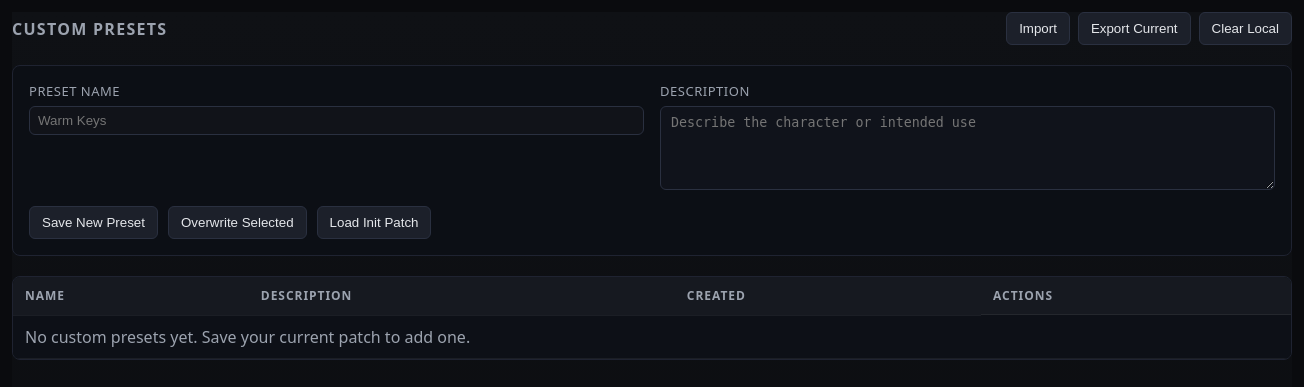
it: PatchPanel › saves a new preset and lists it in the table
Type "My Custom" into the field labelled "Preset Name" at (336, 120), box x1=29 y1=106 x2=644 y2=135
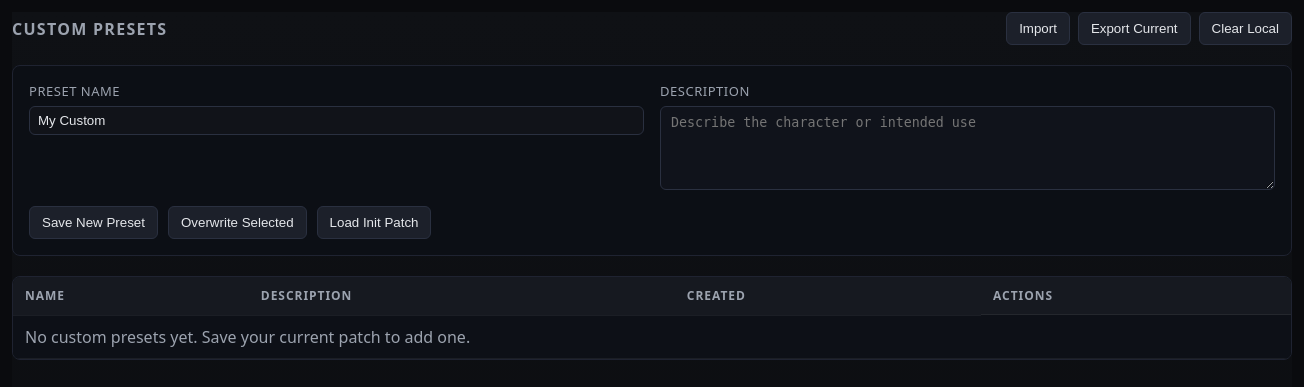
Type "A mellow sound" into the text box labelled "Description" at (968, 148), box x1=660 y1=106 x2=1275 y2=190
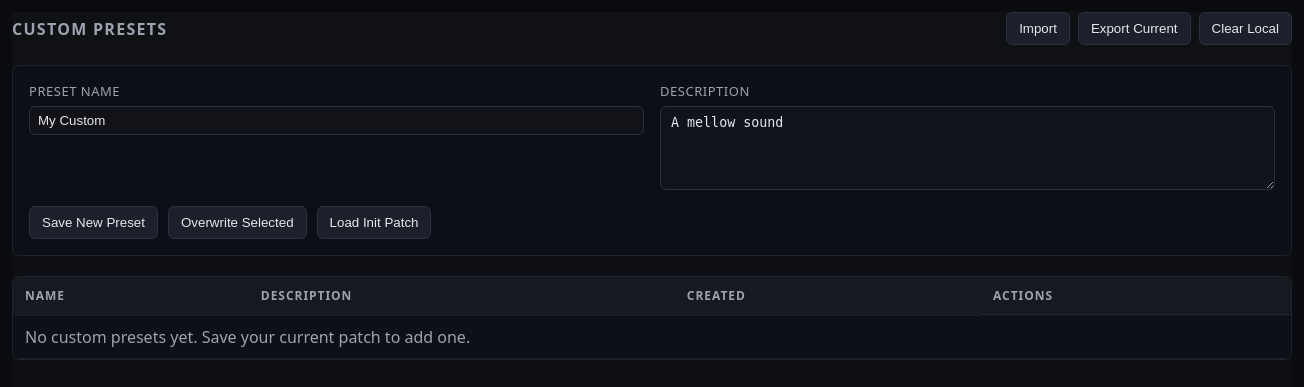
Click the button "Save New Preset" at (94, 222), box x1=29 y1=206 x2=158 y2=239
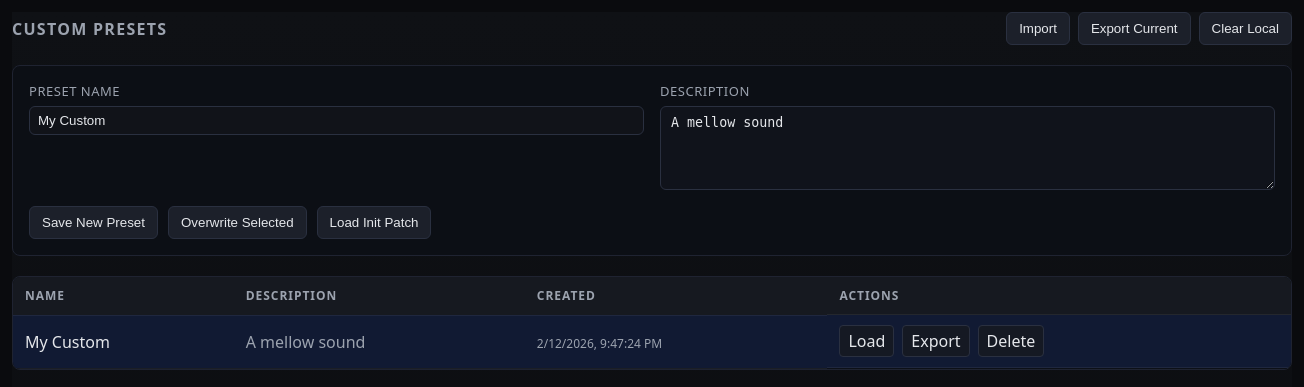
Expected: the button "Overwrite Selected" is enabled, x1=168 y1=206 x2=307 y2=239
Expected: the button "My Custom" is shown, x1=25 y1=330 x2=110 y2=352
